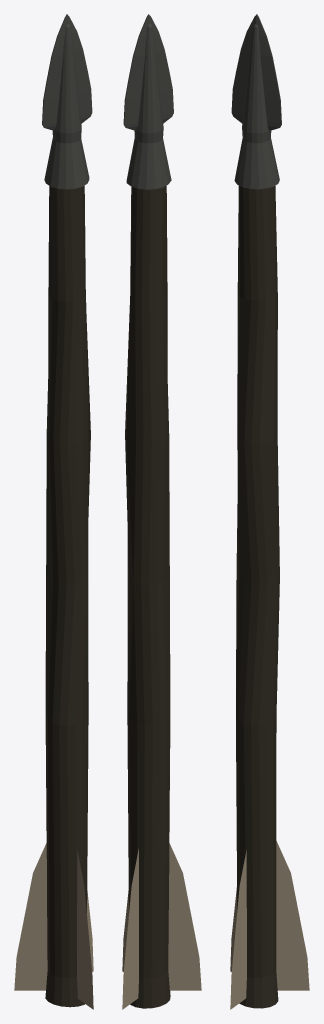
The model's file is arrow.fbx.
3 renders of one model, left to right at view 1: azimuth 30°, elevation 25°; view 2: azimuth 210°, elevation 25°; view 3: azimuth 330°, elevation 25°, orthographic.
Visible parts, largest first — view 1: Arrow, Arrow.001; view 2: Arrow, Arrow.001; view 3: Arrow, Arrow.001.
Part boxes in pixels (bbox=[...]): Arrow: bbox=[42, 14, 92, 1007]; Arrow.001: bbox=[14, 843, 93, 1009]; Arrow: bbox=[123, 14, 173, 1008]; Arrow.001: bbox=[122, 843, 201, 1009]; Arrow: bbox=[231, 14, 281, 1008]; Arrow.001: bbox=[230, 841, 309, 1009].
Bounding box in the file's own units: 49.52 × 588 × 42.88.
